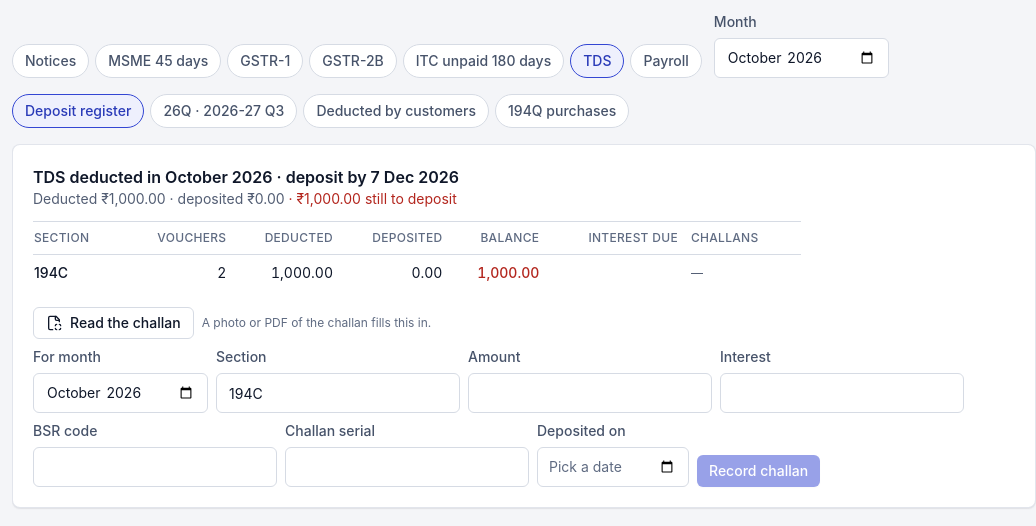
Test case: TDS papers, into the registers › Form 26AS as a PDF goes to the reader; the CSV still goes to the parser
Click the button "Deducted by customers". click: (396, 111)
box: top-left (303, 94), bottom-right (489, 128)
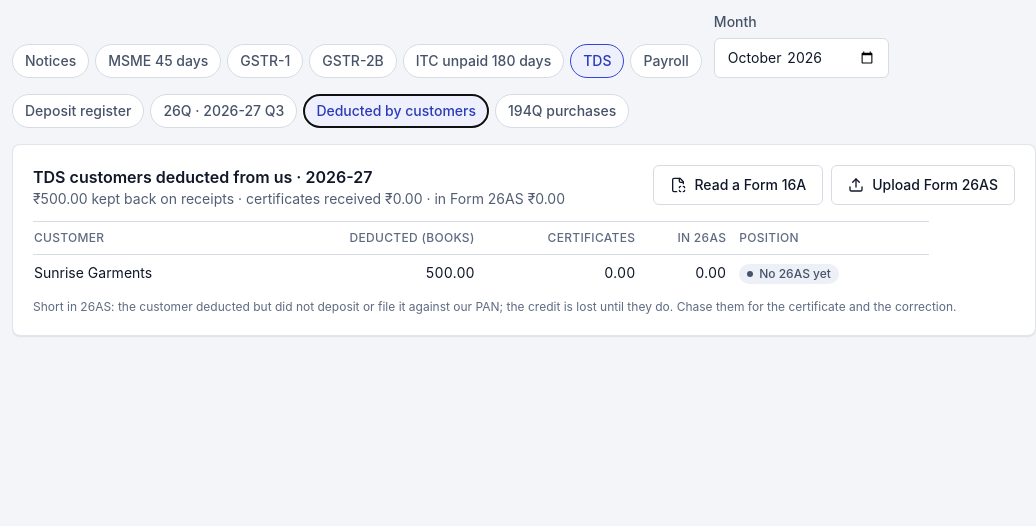
Now the table named "TDS receivable" is shown, box top-left (33, 221), bottom-right (929, 291)
